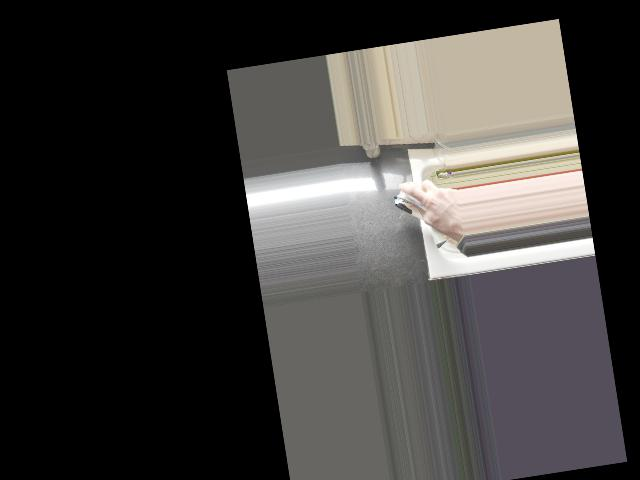cheese: (389, 177, 459, 233)
